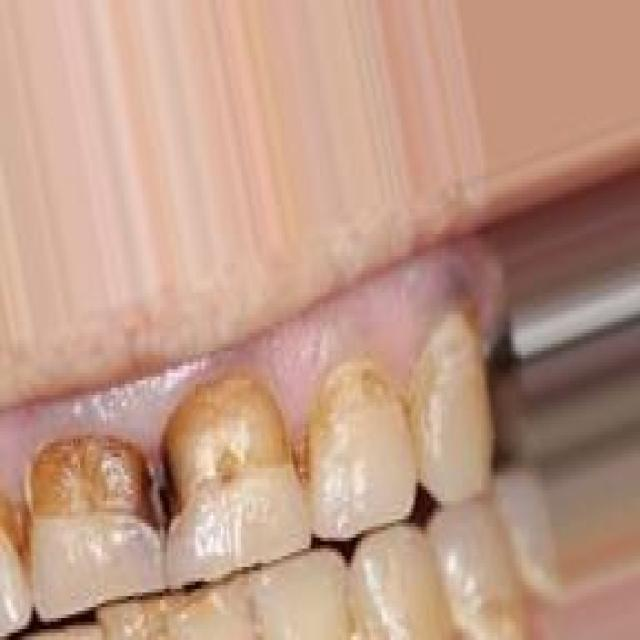caries: (159, 365, 298, 521), (32, 426, 162, 550)
